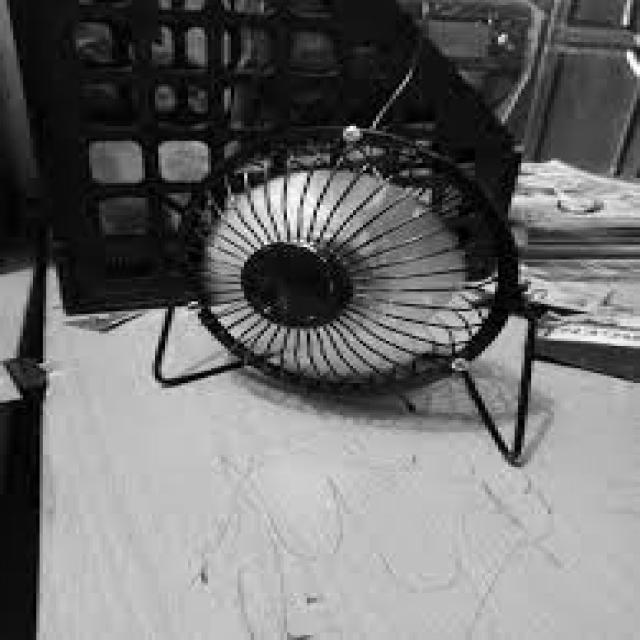fan: (134, 111, 554, 468)
